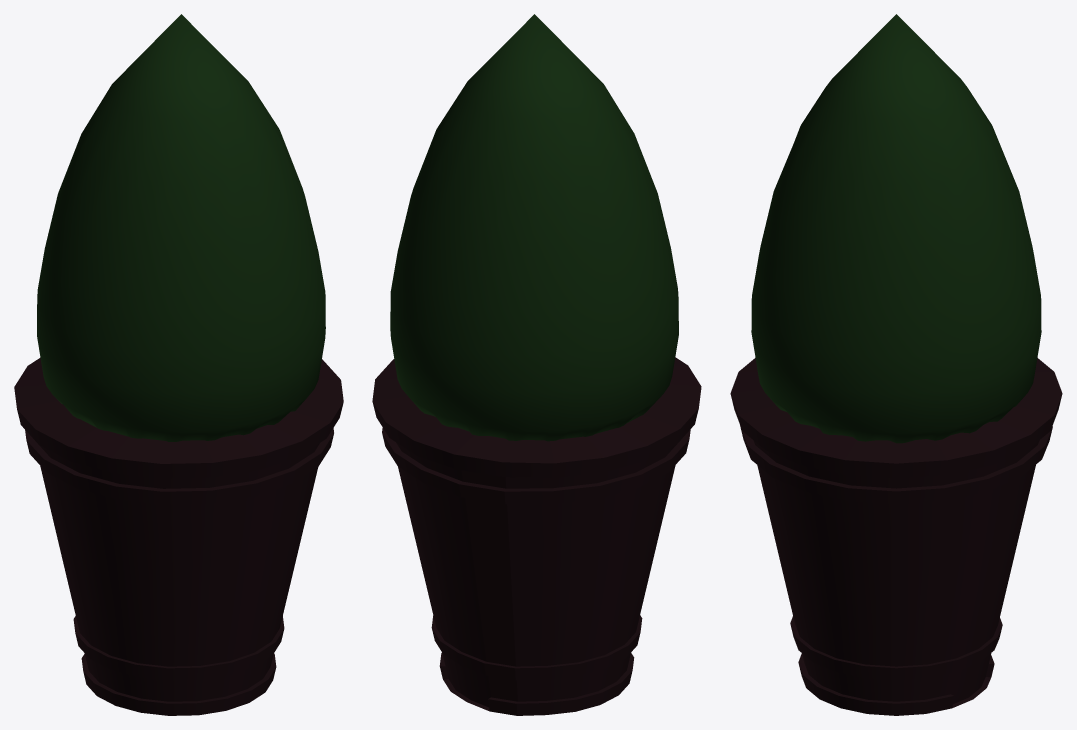
File: Topfpflanze Einzeln.fbx
3 renders of one model, left to right at view 1: azimuth 30°, elevation 25°; view 2: azimuth 150°, elevation 25°; view 3: azimuth 270°, elevation 25°, orthographic.
Visible parts, largest first — view 1: pSphere4; view 2: pSphere4; view 3: pSphere4.
Part boxes in pixels (x1=…): pSphere4: x1=14, y1=14, x2=343, y2=715; pSphere4: x1=372, y1=14, x2=701, y2=715; pSphere4: x1=730, y1=14, x2=1062, y2=715.
Bounding box in the file's own units: 59.7 × 132 × 59.7.
